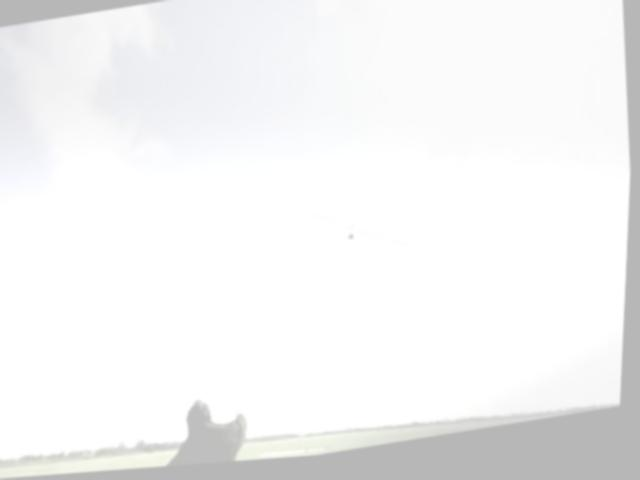flying wing: (271, 169, 447, 292)
